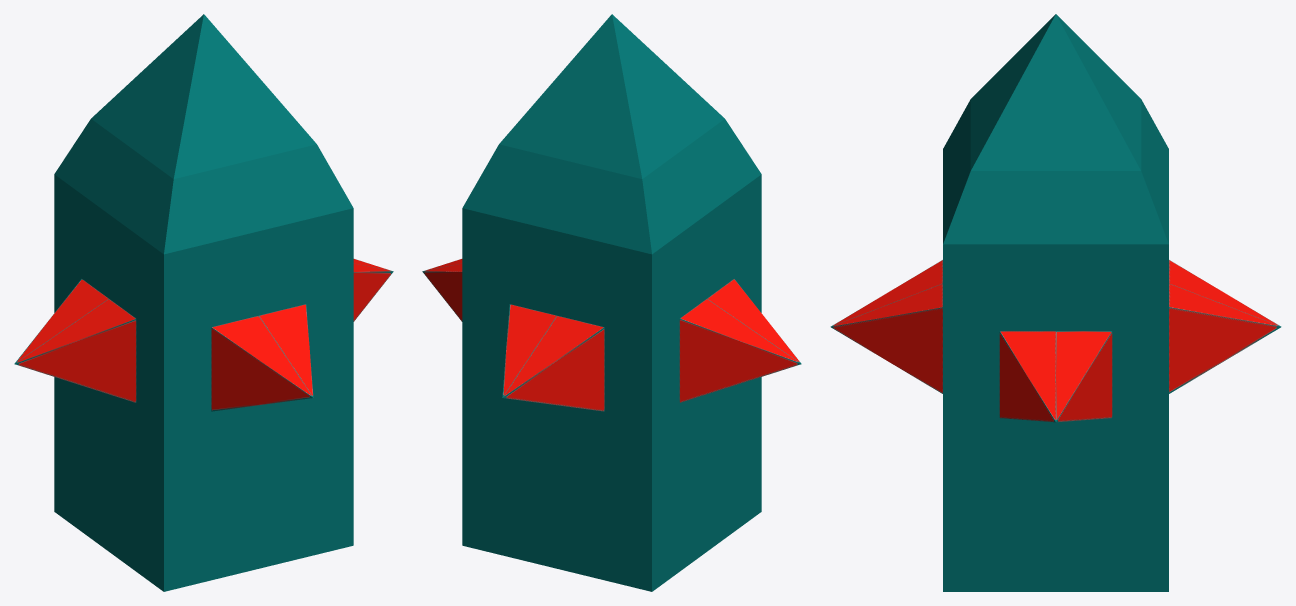
The model's file is Misile.obj.
3 views of the same model, side by side, from view 1: azimuth 30°, elevation 25°; view 2: azimuth 150°, elevation 25°; view 3: azimuth 270°, elevation 25° (orthographic). The views are drawn at different scales.
Visible parts, largest first — view 1: Cube; view 2: Cube; view 3: Cube.
Boxes of the visible parts, left/top/right/bottom form: Cube: left=14, top=14, right=393, bottom=591; Cube: left=422, top=14, right=801, bottom=591; Cube: left=830, top=14, right=1281, bottom=591.
Bounding box in the file's own units: 4 × 5.18 × 4.
1 material, 1 textured.
